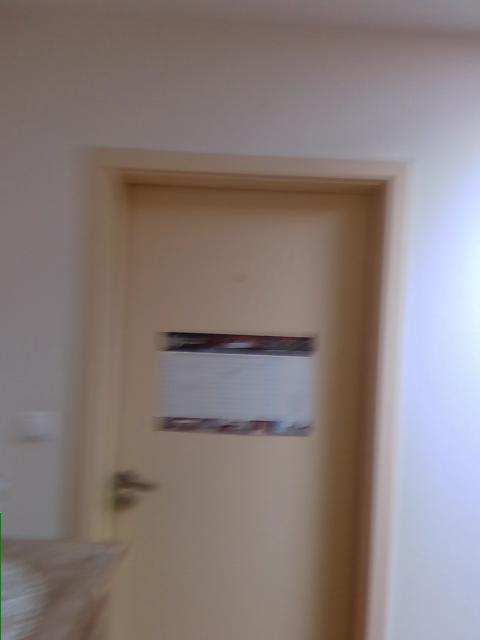door: (73, 151, 410, 639)
